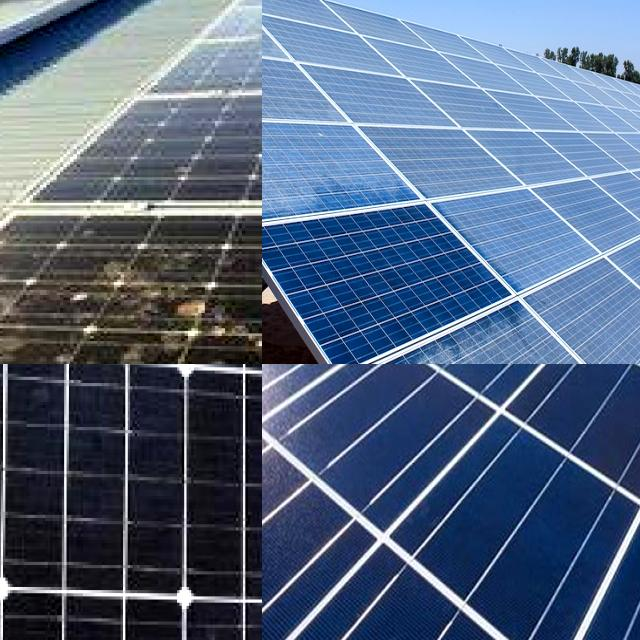bird: (78, 255, 246, 308), (0, 304, 55, 333)
crack: (262, 364, 640, 640)
dust: (348, 22, 473, 116), (262, 127, 394, 202), (502, 60, 588, 164), (450, 188, 600, 237), (538, 293, 640, 343), (262, 57, 333, 107), (262, 0, 330, 46), (436, 340, 551, 364), (262, 105, 295, 188), (616, 164, 640, 262), (276, 26, 344, 56), (579, 341, 640, 364)
